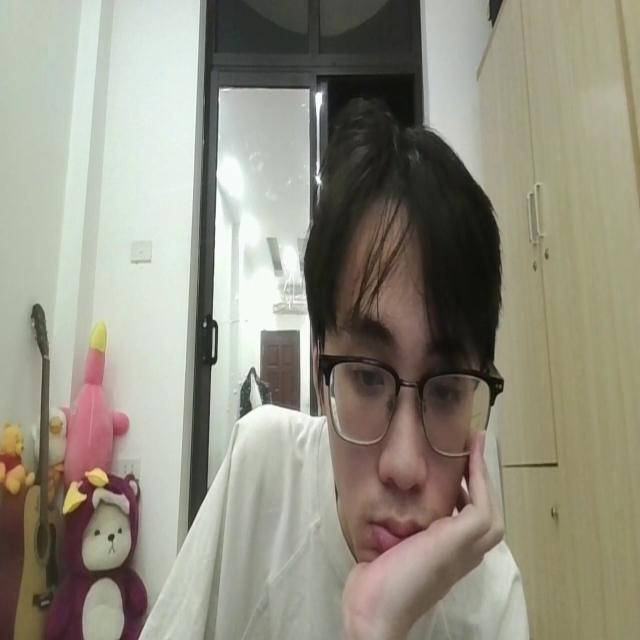student: (126, 104, 528, 640)
